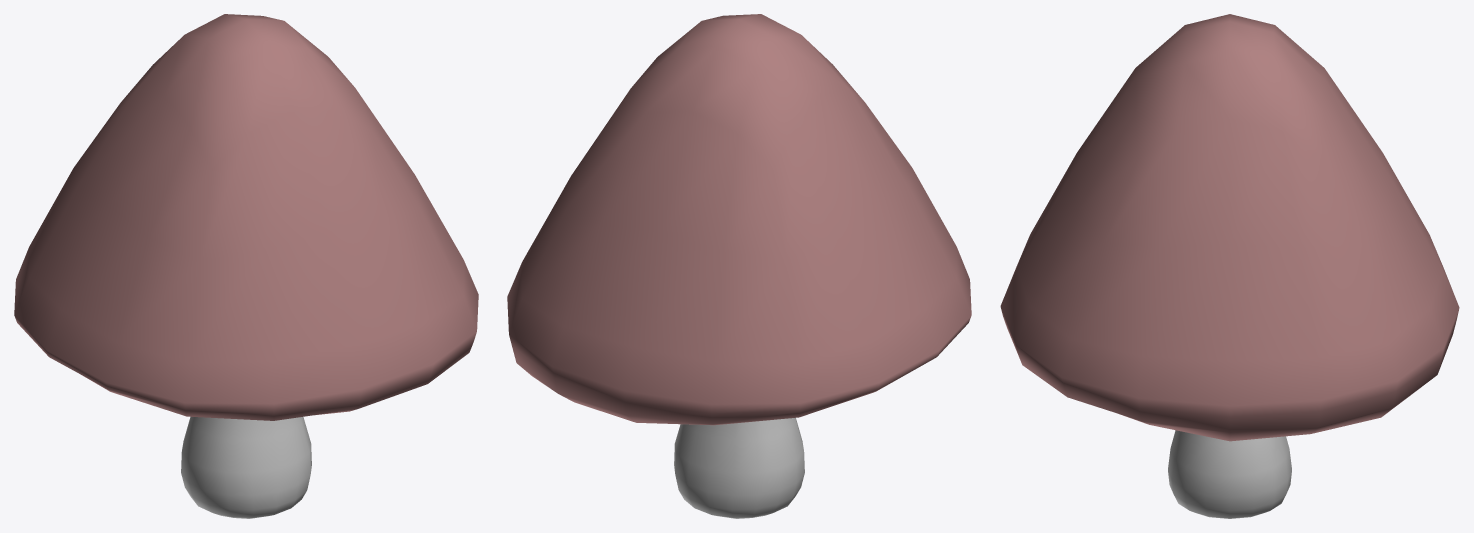
File: M_Mushroom1b.fbx
3 views of the same model, side by side, from view 1: azimuth 30°, elevation 25°; view 2: azimuth 150°, elevation 25°; view 3: azimuth 270°, elevation 25° (orthographic).
Parts seen in each view (by area): view 1: polySurface83; view 2: polySurface83; view 3: polySurface83.
Part boxes in pixels (x1,y1,x2,y2): polySurface83: (14,14,478,518); polySurface83: (507,14,971,518); polySurface83: (1000,14,1459,518).
Bounding box in the file's own units: 0.3282 × 0.378 × 0.3282.
